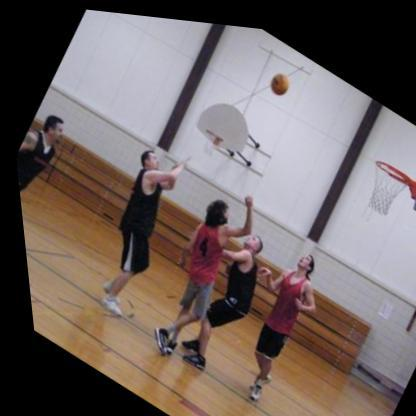basketball: (265, 64, 296, 96)
